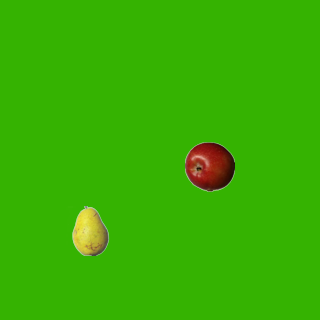Apple Braeburn: (184, 141, 234, 191)
Pear Monster: (65, 205, 115, 255)
